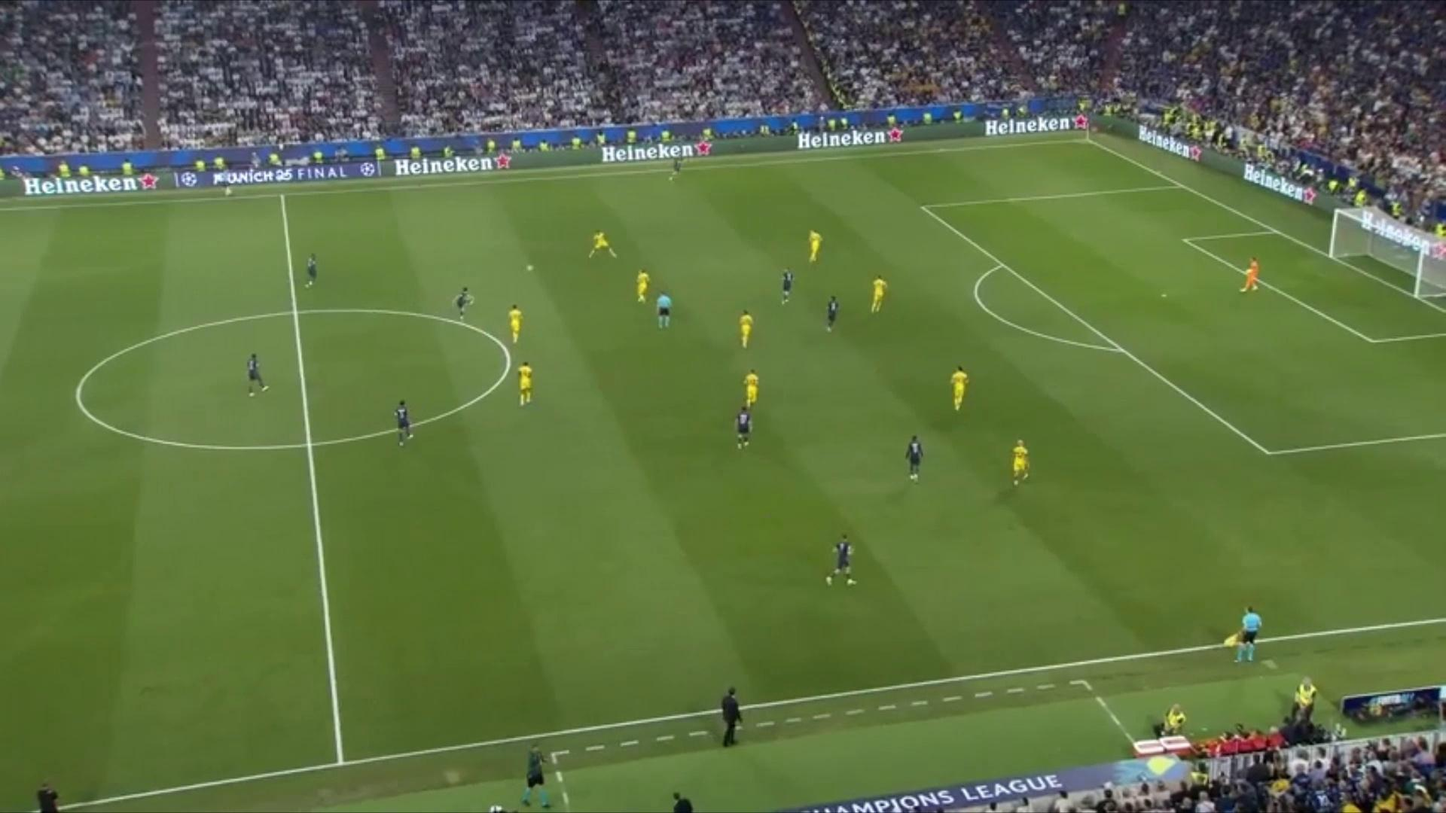ball: (525, 261, 537, 276)
player_A: (388, 397, 421, 451), (827, 532, 857, 589), (897, 430, 928, 485), (240, 352, 272, 396), (729, 402, 757, 449), (448, 282, 476, 324), (299, 247, 324, 291), (822, 294, 844, 335), (776, 263, 796, 304), (668, 151, 688, 186)
player_B: (502, 299, 529, 346), (1009, 439, 1035, 487), (587, 228, 617, 265), (948, 365, 970, 414), (512, 361, 535, 407), (864, 274, 889, 313), (734, 309, 758, 347), (802, 226, 824, 267), (631, 268, 654, 307), (743, 369, 762, 409)
player_B_goal_keeper: (1241, 256, 1262, 298)
referee: (521, 740, 556, 806), (1229, 604, 1265, 664), (651, 291, 678, 329), (213, 166, 237, 200)
